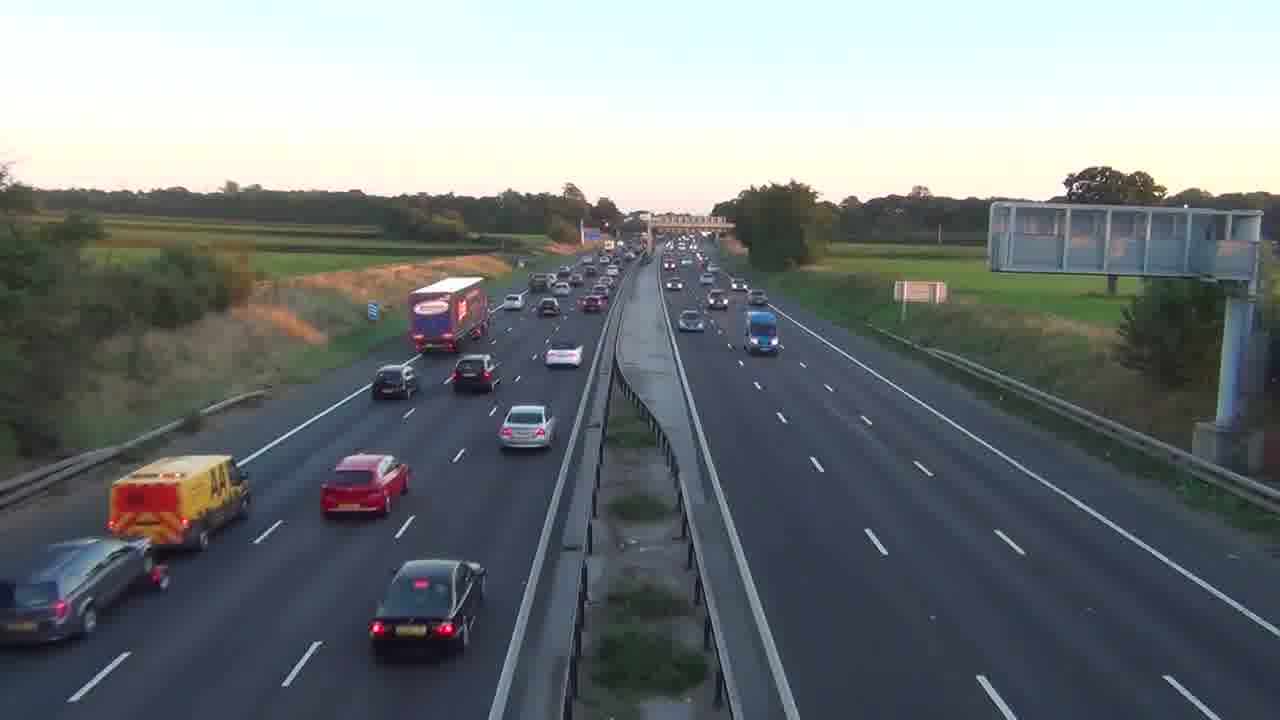bus: (406, 275, 489, 353)
car: (368, 557, 487, 658), (319, 452, 411, 518), (498, 404, 557, 452), (444, 353, 502, 393), (372, 364, 414, 400), (544, 338, 583, 370), (678, 308, 706, 332), (537, 297, 562, 318)
truck: (0, 535, 167, 646), (106, 452, 253, 552)
